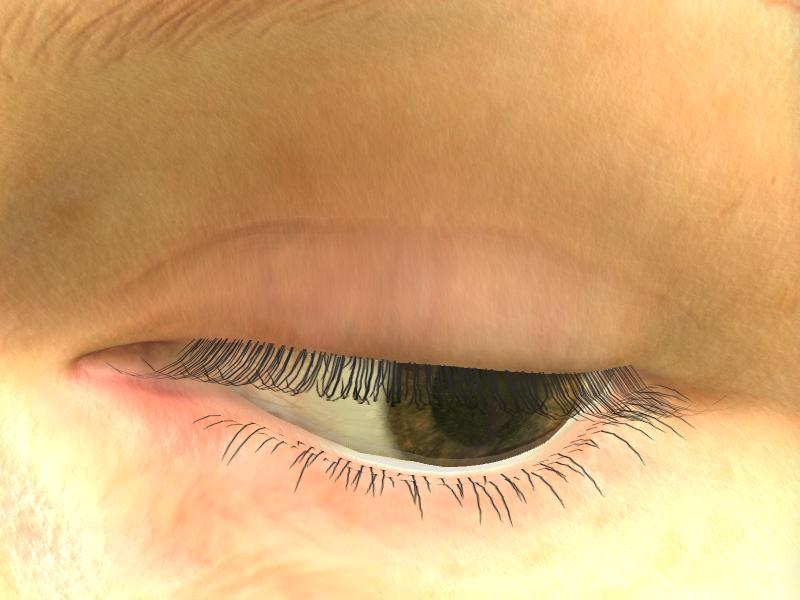eye: (388, 359, 577, 462)
